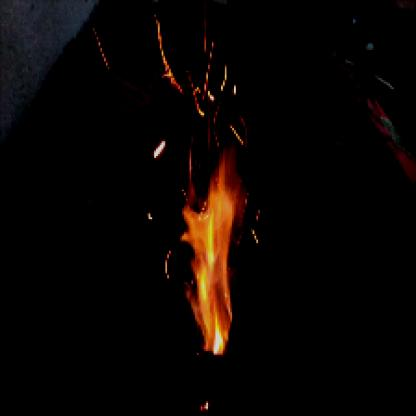Fire: (171, 95, 256, 360)
